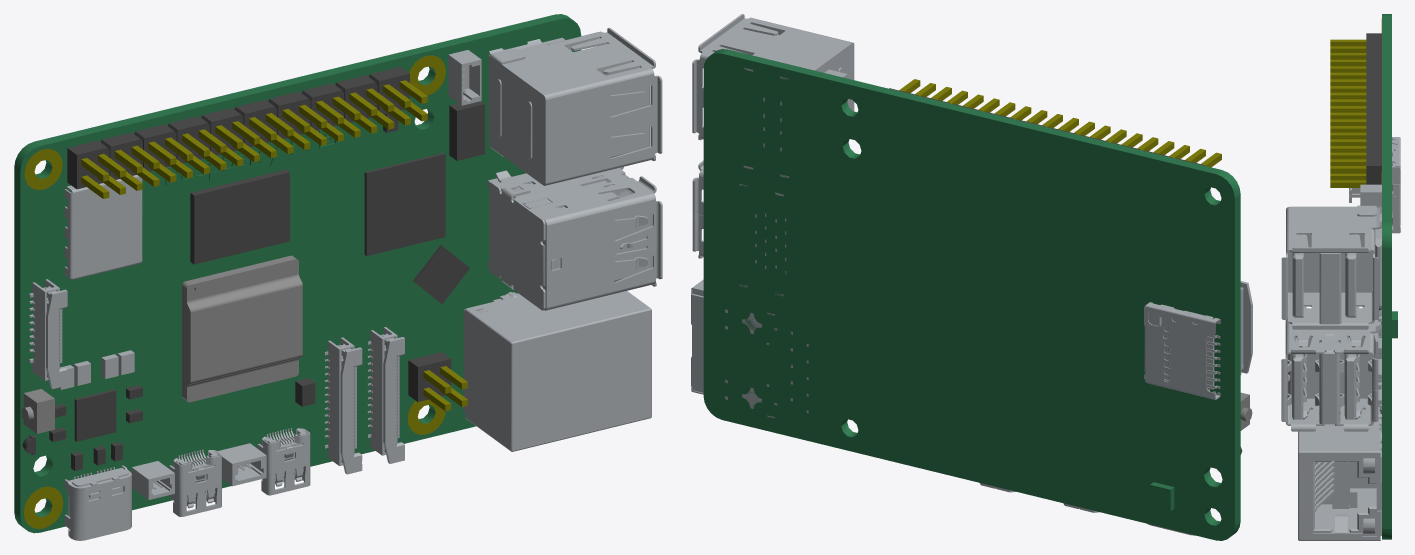
The model's file is raspberry-pi-5.glb.
3 views of the same model, side by side, from view 1: azimuth 30°, elevation 25°; view 2: azimuth 150°, elevation 25°; view 3: azimuth 270°, elevation 25° (orthographic). The views are drawn at different scales.
Visible parts, largest first — view 1: CONNECTOR, PCB, GPIO-HEADER, SOLID-1355, CPU; view 2: PCB, CONNECTOR, SOLID-1355; view 3: CONNECTOR, SOLID-1355, PCB, GPIO-HEADER.
Boxes of the visible parts, bbox=[...] form: CONNECTOR: bbox=[29, 27, 662, 540]; PCB: bbox=[14, 14, 581, 533]; GPIO-HEADER: bbox=[22, 66, 484, 470]; SOLID-1355: bbox=[23, 55, 467, 528]; CPU: bbox=[21, 255, 302, 433]; PCB: bbox=[703, 49, 1240, 540]; CONNECTOR: bbox=[691, 14, 1252, 535]; SOLID-1355: bbox=[899, 79, 1221, 519]; CONNECTOR: bbox=[1281, 137, 1400, 540]; SOLID-1355: bbox=[1330, 19, 1381, 187]; PCB: bbox=[1382, 14, 1397, 539]; GPIO-HEADER: bbox=[1366, 33, 1381, 413].
Bounding box in the file's own units: 0.0886 × 0.0572 × 0.0192.
